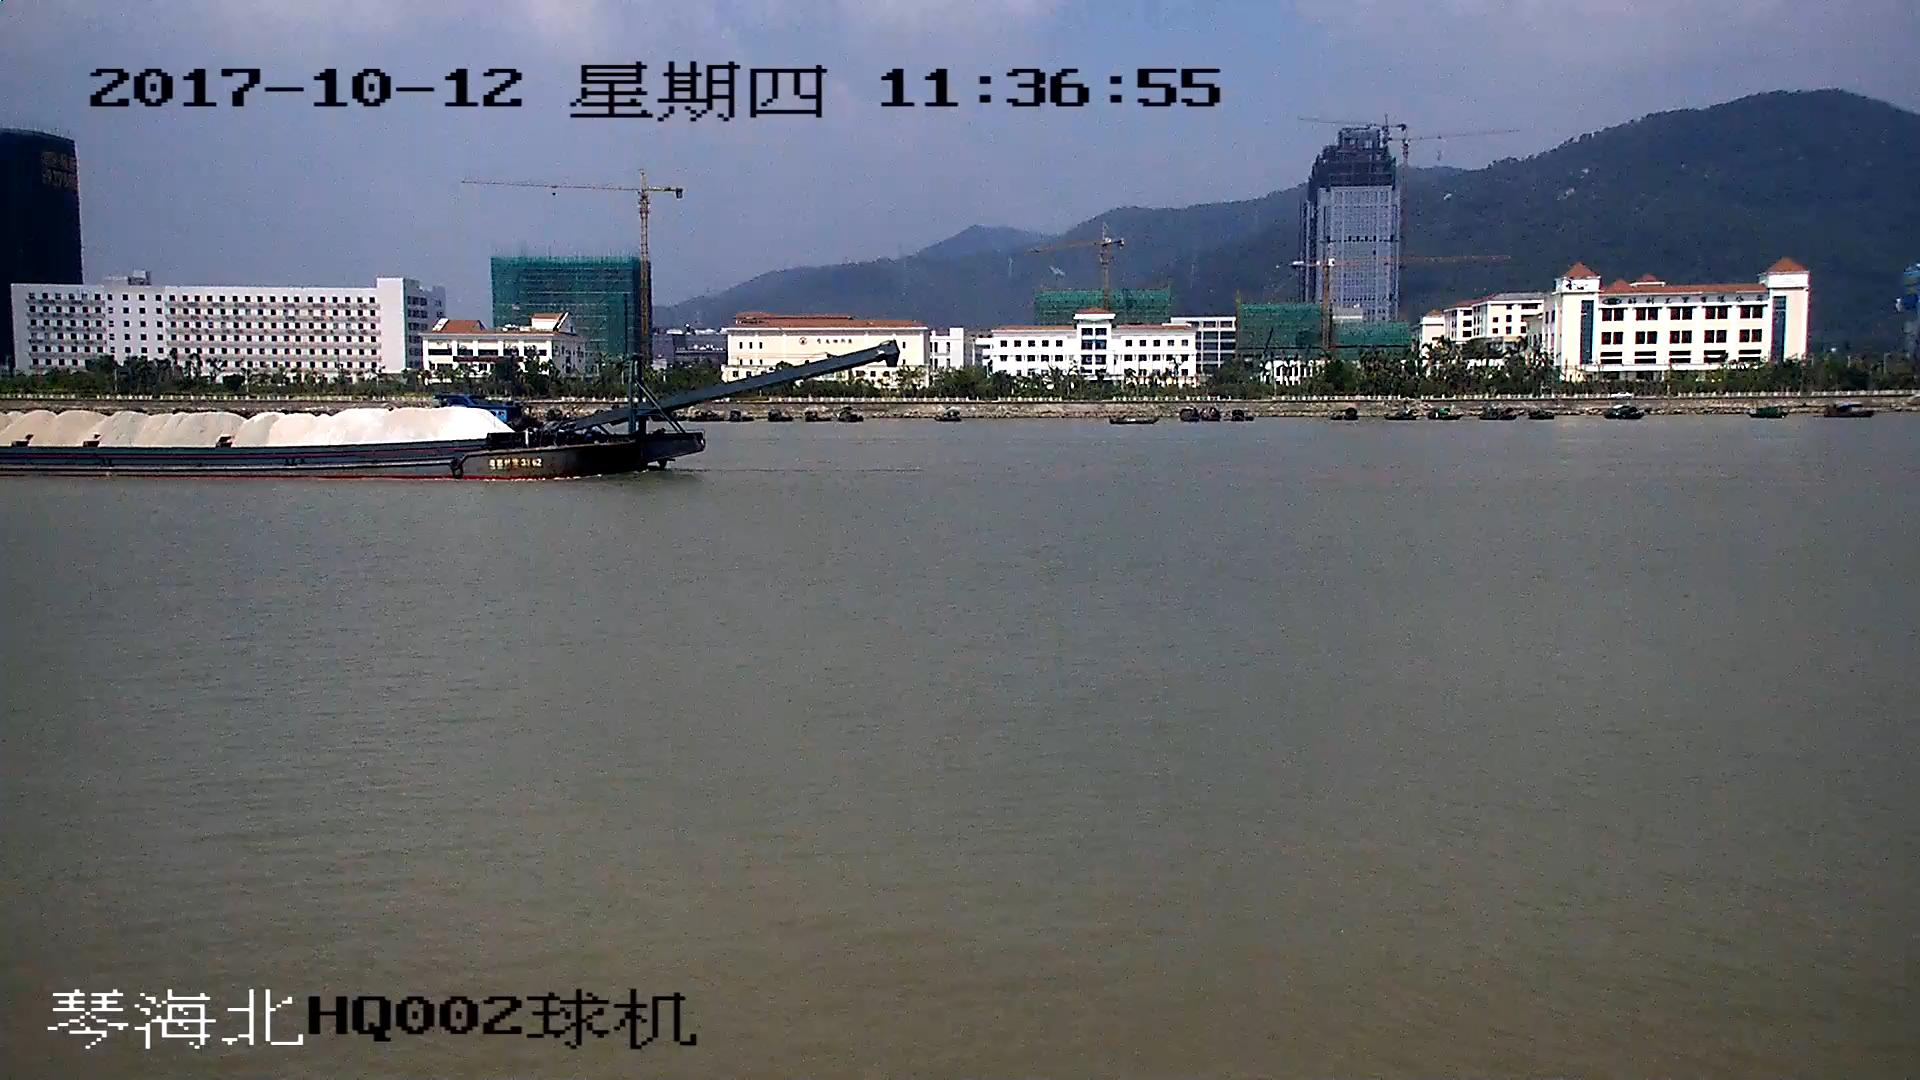ore carrier: (1, 345, 894, 479)
